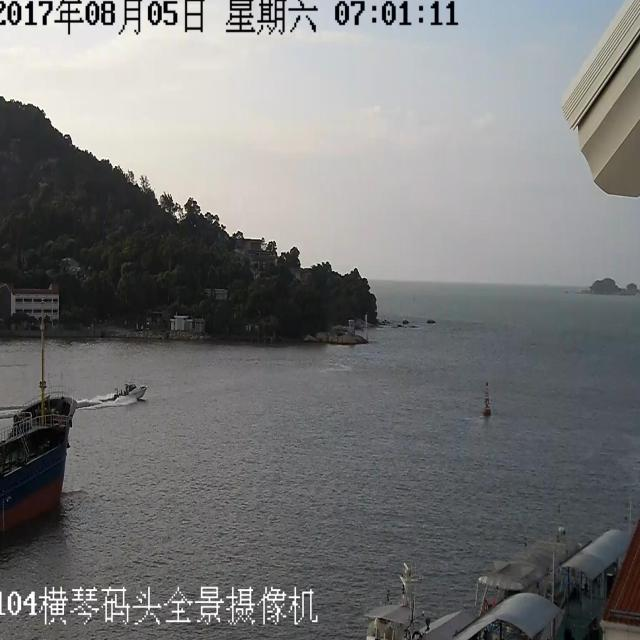buoy: (471, 376, 504, 427)
houseboat: (102, 360, 158, 413)
